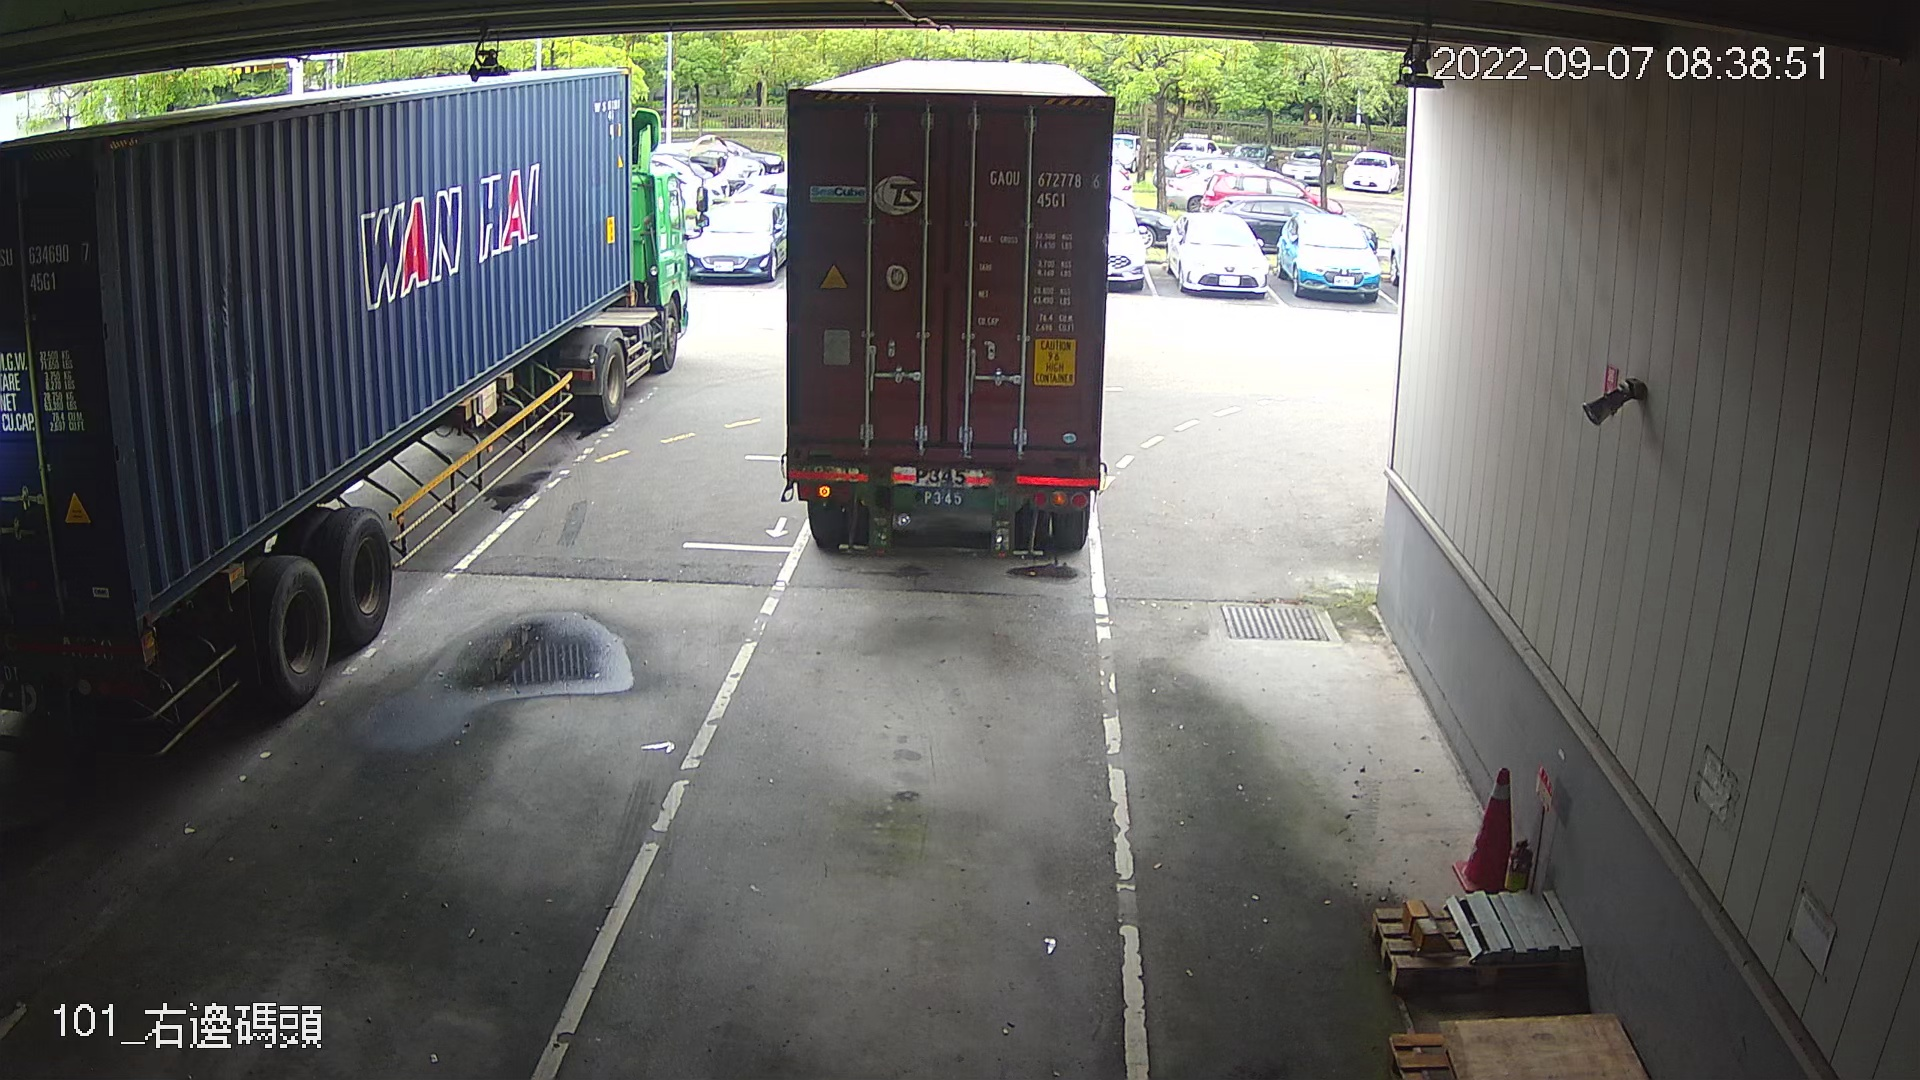container: (978, 164, 1104, 214)
